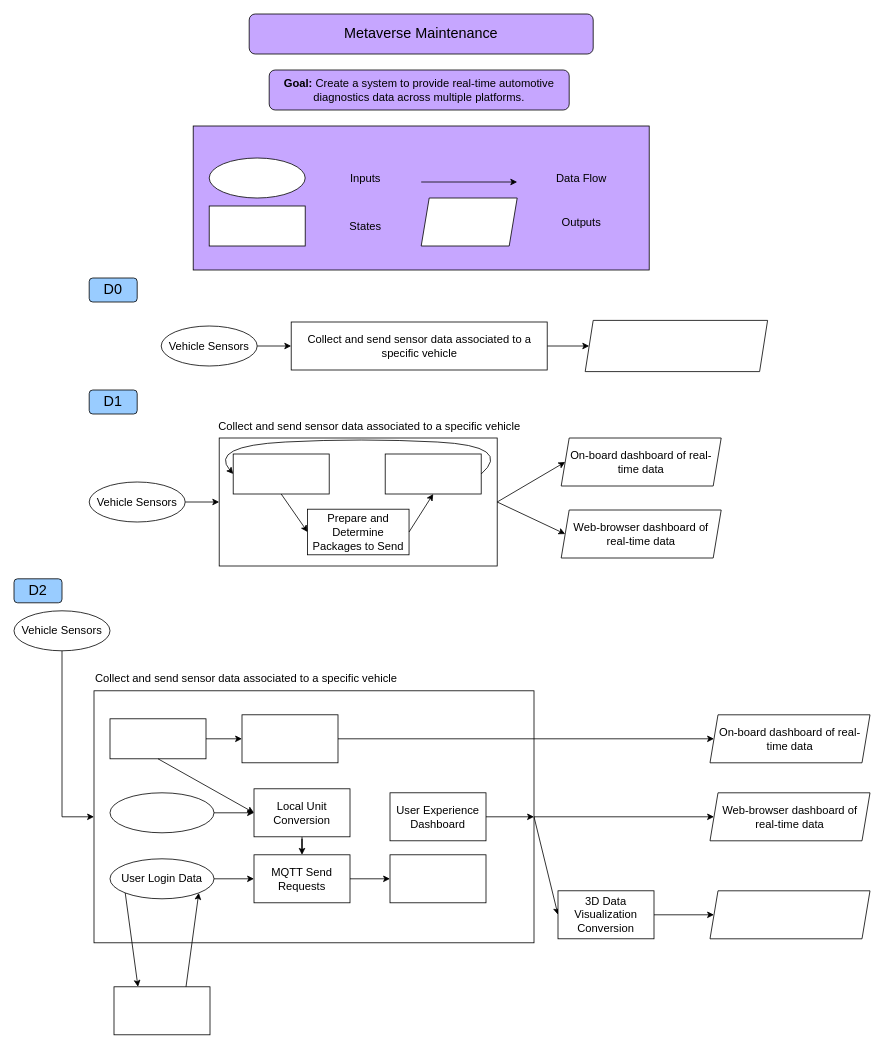
Some shapes in this 884 by 1049 pixel diagram are drawn without their labels. Here are the shapes that lost their labels. From the top down, the box of each, then its label:
(192, 125, 649, 270): Legend
(584, 320, 768, 372): Dashboard and database of real-time data
(232, 453, 329, 494): Read Diagnostic Sensors
(384, 453, 481, 494): Send Data to Database
(109, 718, 206, 759): OBD II Interface
(241, 714, 338, 763): Bluetooth Hardware Interface
(109, 792, 214, 833): Micro GPS Module
(389, 854, 486, 903): Losant Data Aquisition
(709, 890, 870, 939): Immersive Virtual Reality Dashboard Experience
(113, 986, 210, 1035): Database Authentification
